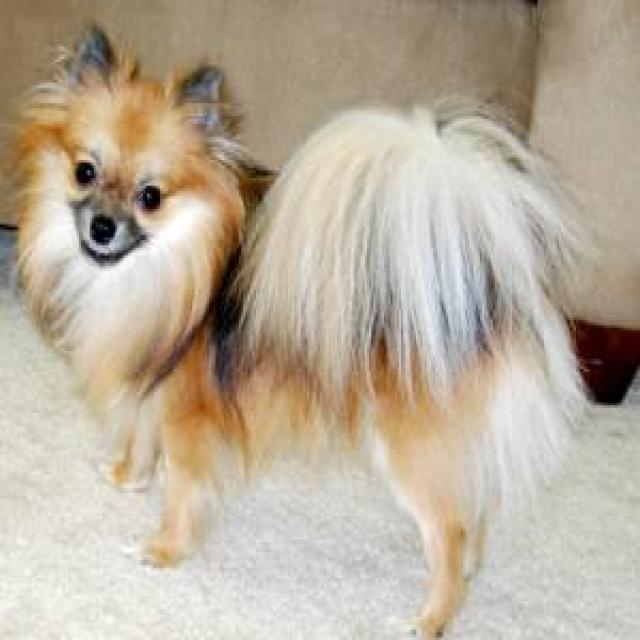dog-pomeranian: (17, 23, 582, 635)
